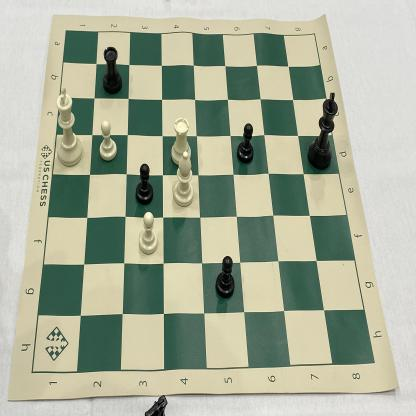black-king: (306, 90, 340, 171)
black-pawn: (213, 251, 238, 303), (133, 161, 155, 208), (236, 118, 254, 168)
black-rook: (99, 44, 125, 97)
white-bishop: (169, 147, 197, 212)
white-king: (52, 81, 86, 171)
white-pawn: (134, 210, 161, 258), (97, 115, 120, 164)
white-rook: (168, 112, 193, 170)
